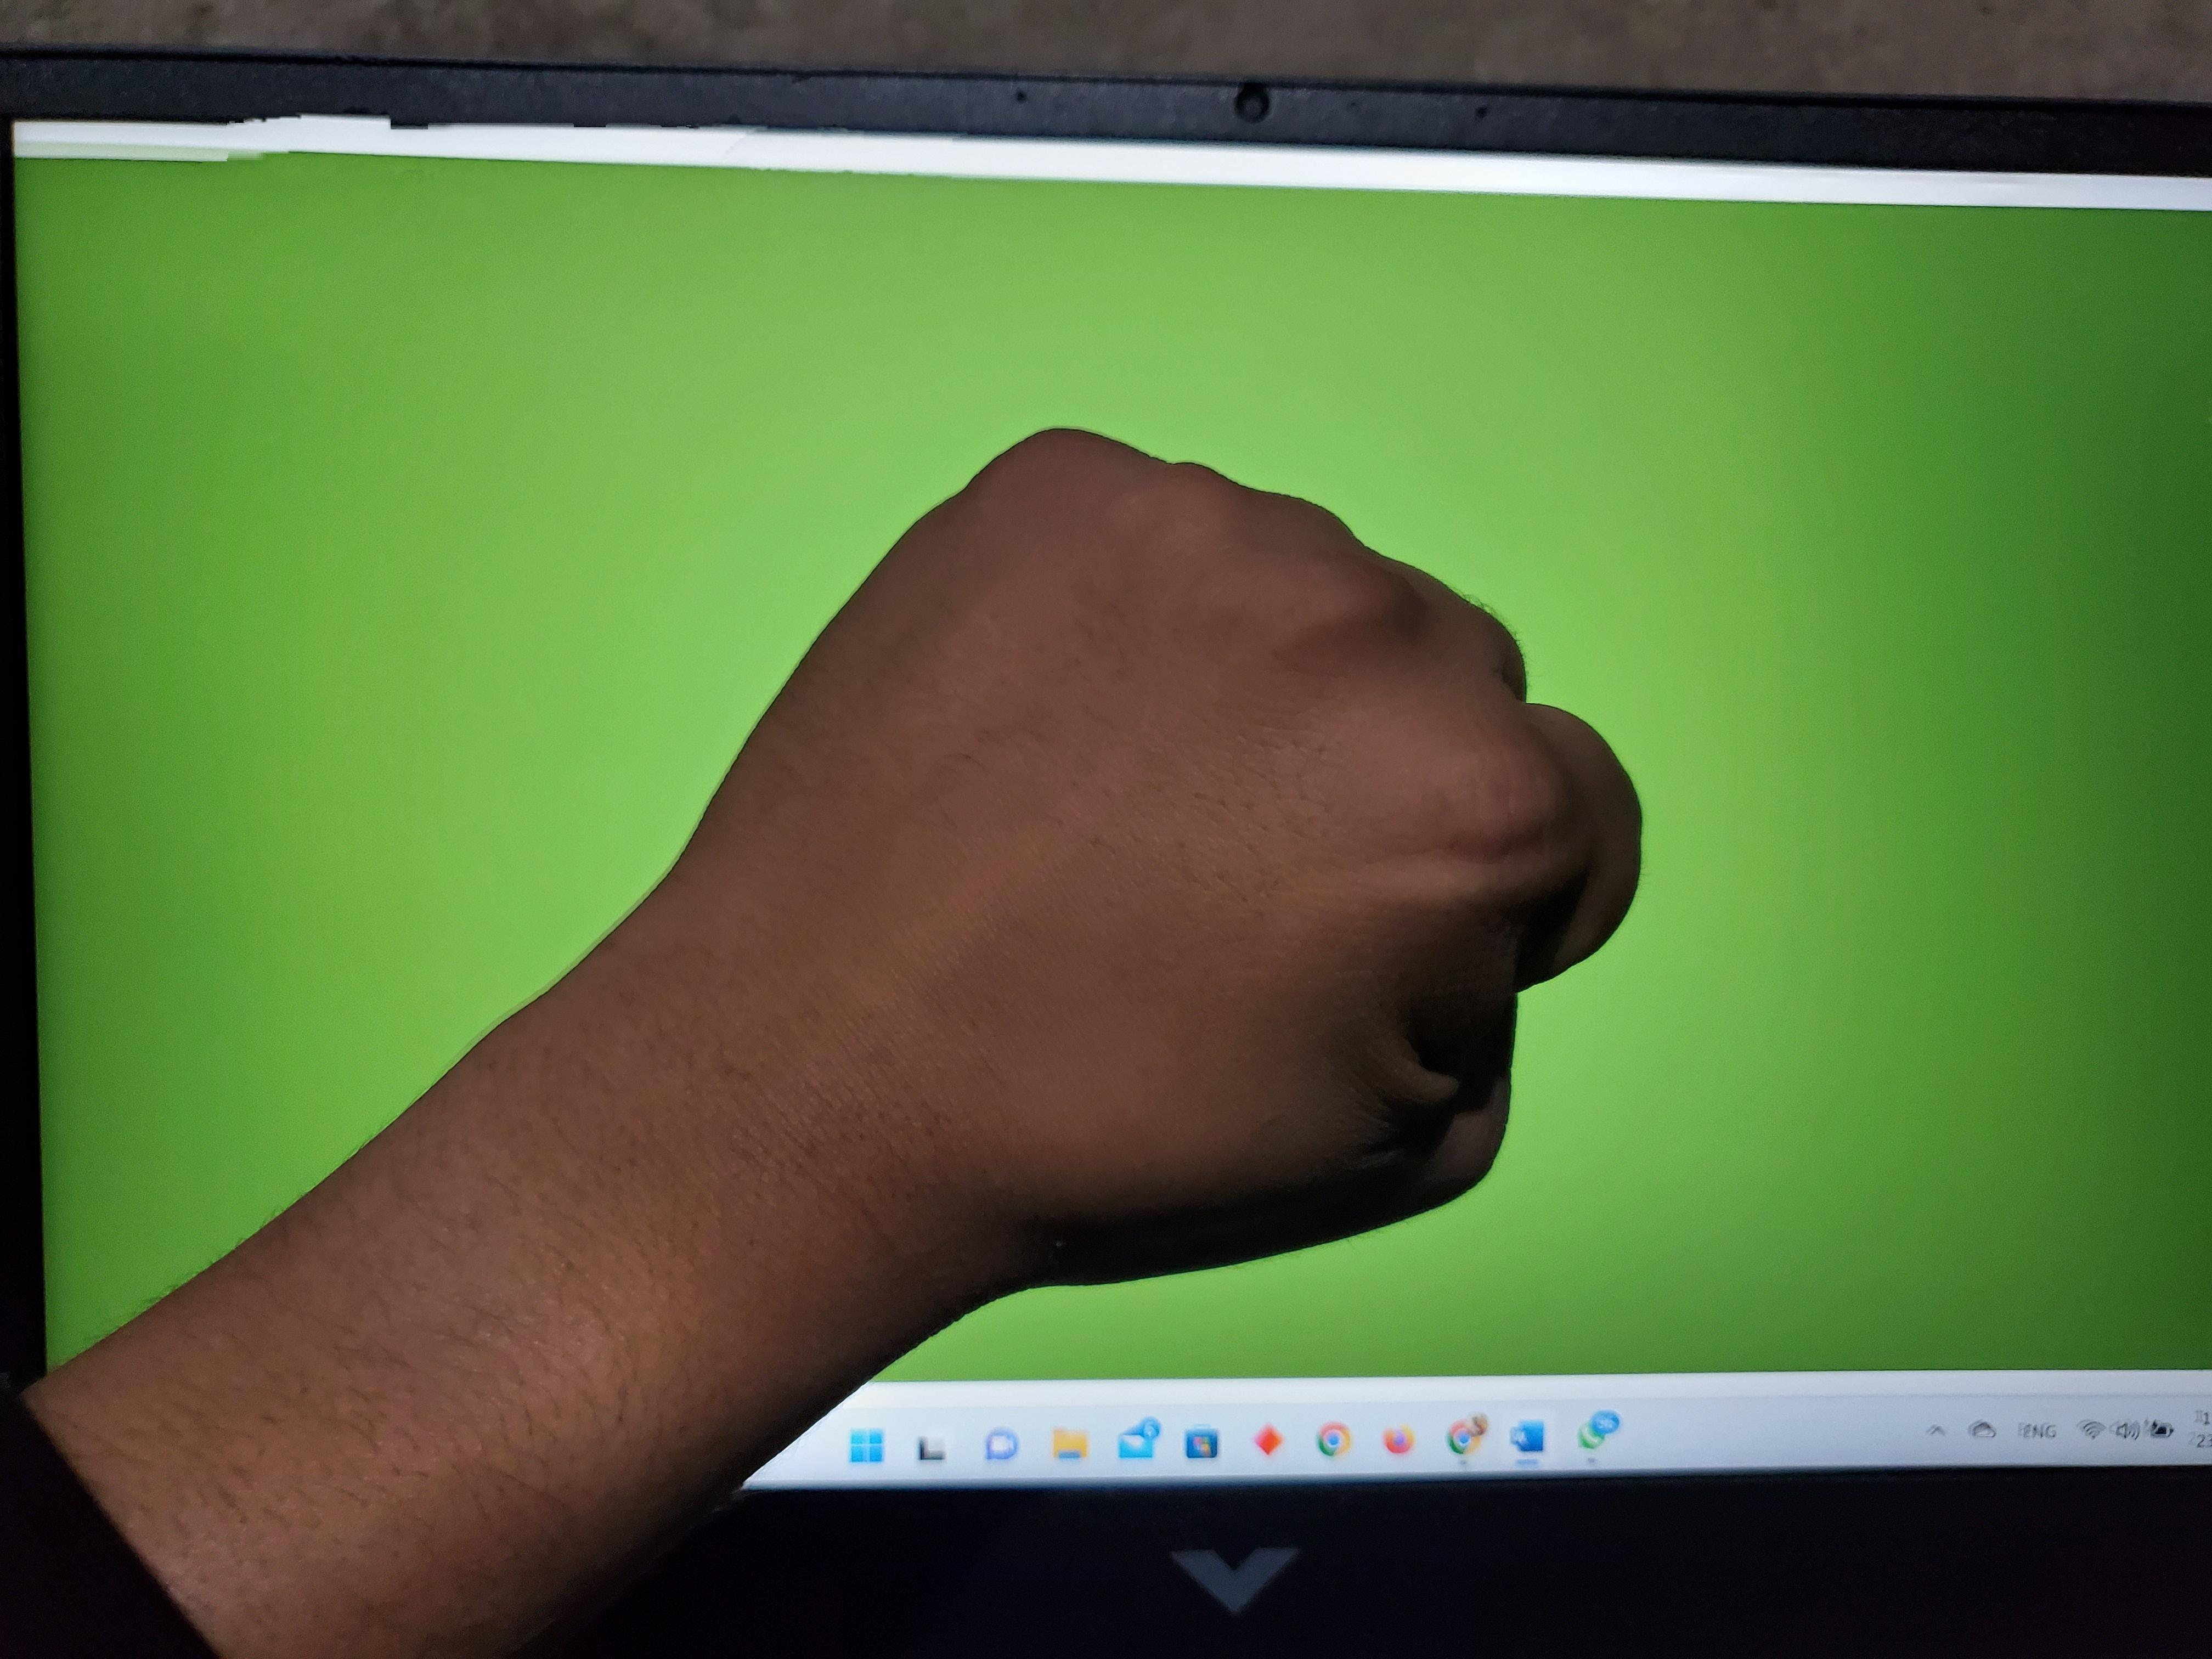Stone: (357, 319, 2015, 1492)
